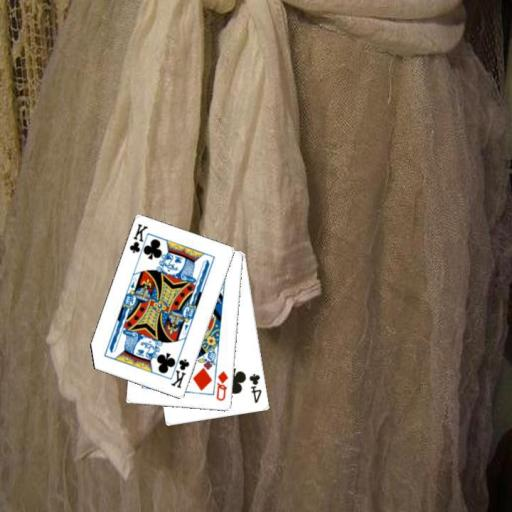4C: (246, 371, 264, 405)
KC: (167, 351, 192, 390), (127, 221, 151, 260)
QD: (213, 369, 230, 403)
